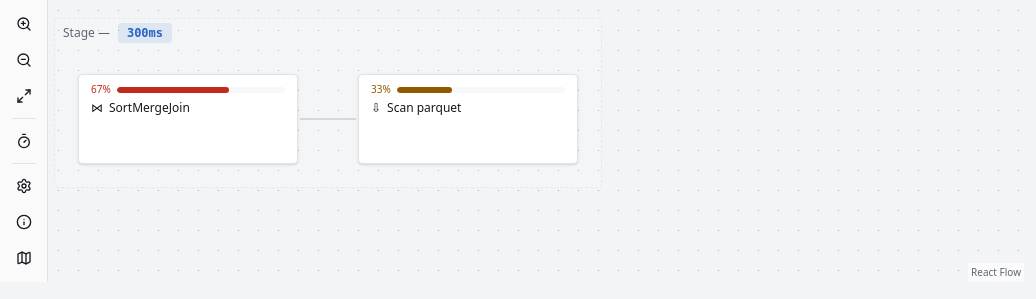
Scenario: minimap visibility › hides the minimap while the graph fits, with the toggle unpressed, and shows it on an explicit click
This screenshot has width=1036, height=299.
Click the button named "show minimap" at (24, 258), box [8,242,40,274]
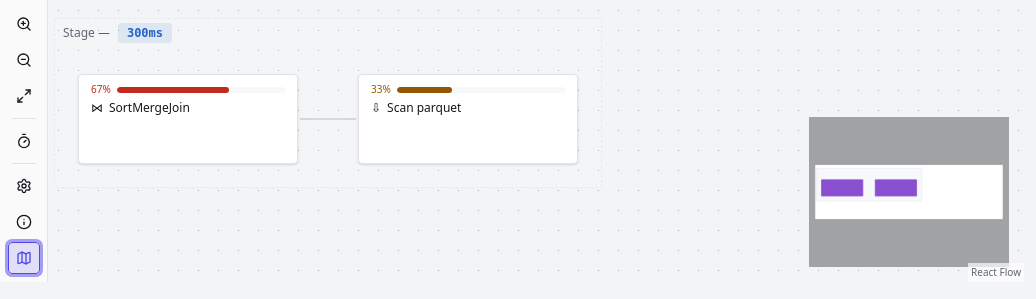
Expected: the element with test id "rf__minimap" is shown, [809,117,1009,267]
Click the button named "hide minimap" at (24, 258), box [8,242,40,274]
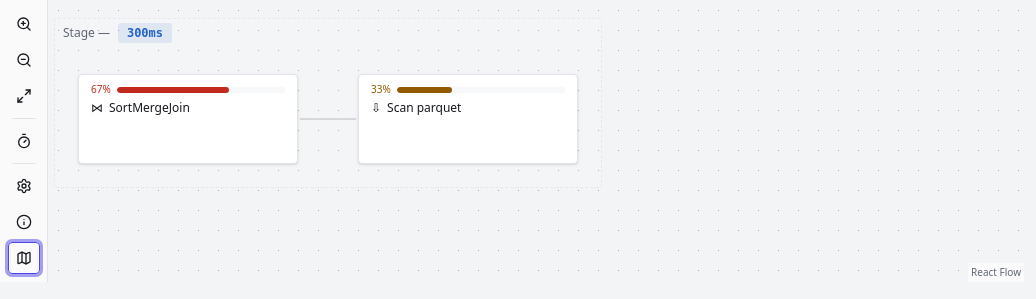
Expected: the element with test id "rf__minimap" is gone
